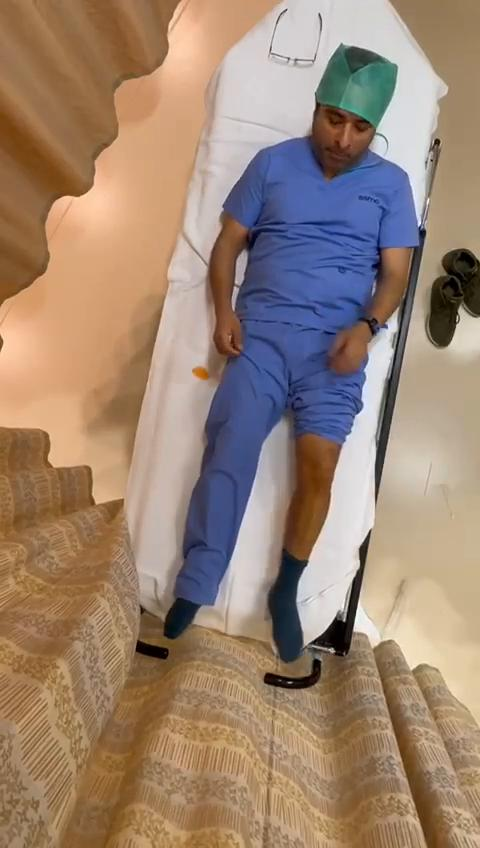patient: (164, 45, 419, 662)
